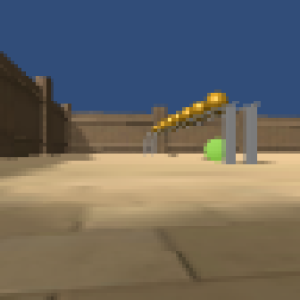goodGoal: (203, 134, 222, 165)
goodGoalMulti: (206, 91, 226, 109), (190, 100, 207, 116), (180, 107, 196, 123), (166, 113, 176, 128), (174, 111, 184, 125), (153, 122, 160, 135), (160, 119, 167, 131)
wall: (221, 106, 236, 164), (243, 104, 256, 164), (144, 133, 159, 154)
